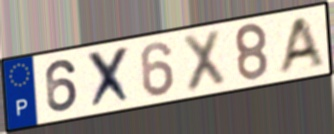6: (138, 39, 176, 99), (43, 57, 81, 115)
8: (233, 21, 270, 84)
A: (275, 13, 327, 77)
X: (86, 43, 135, 112), (180, 26, 228, 95)
